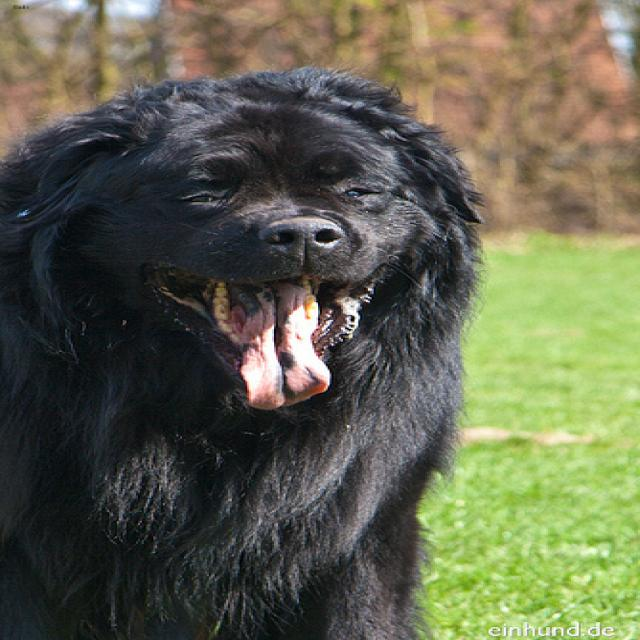dog-newfoundland: (2, 63, 498, 637)
